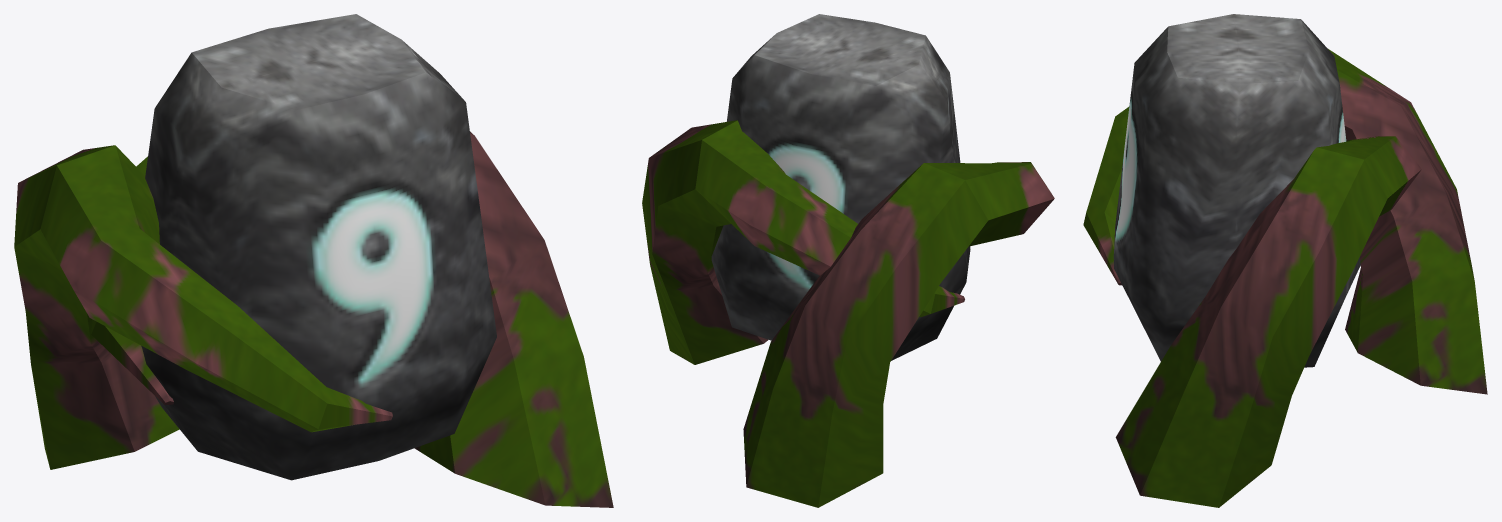
The model's file is button.fbx.
The picture shows the model from 3 angles, left to right: view 1: azimuth 30°, elevation 25°; view 2: azimuth 150°, elevation 25°; view 3: azimuth 270°, elevation 25°; orthographic projection. The views are drawn at different scales.
Parts seen in each view (by area): view 1: Button; view 2: Button; view 3: Button.
Part boxes in pixels (<box>): Button: <box>14,14,613,507</box>; Button: <box>642,14,1054,507</box>; Button: <box>1083,14,1487,507</box>.
Bounding box in the file's own units: 494 × 434 × 436.
